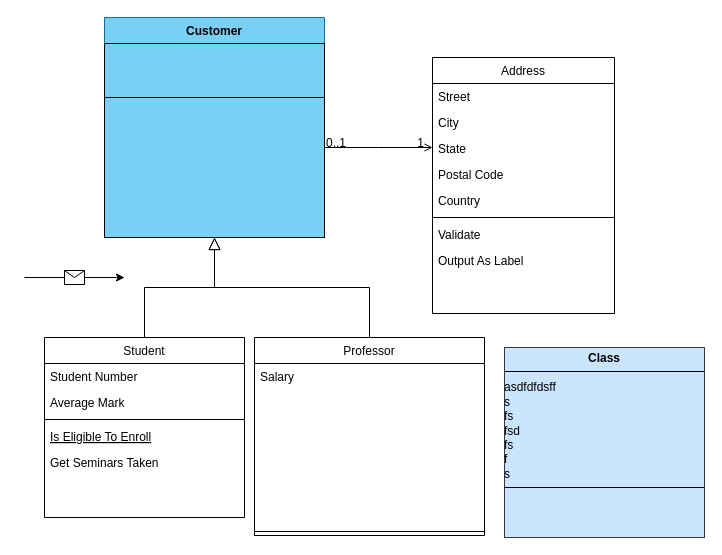
Some shapes in this 722 by 555 pixel diagram are drawn without their labels. Here are the shapes that lost their labels. From the top down, the centre of each, then its label:
At [214,70]: "+customer_id: int +name: String".
At [214,167]: "+viewCart() +placeOrder() +manageProfile() +searchProduct()".
